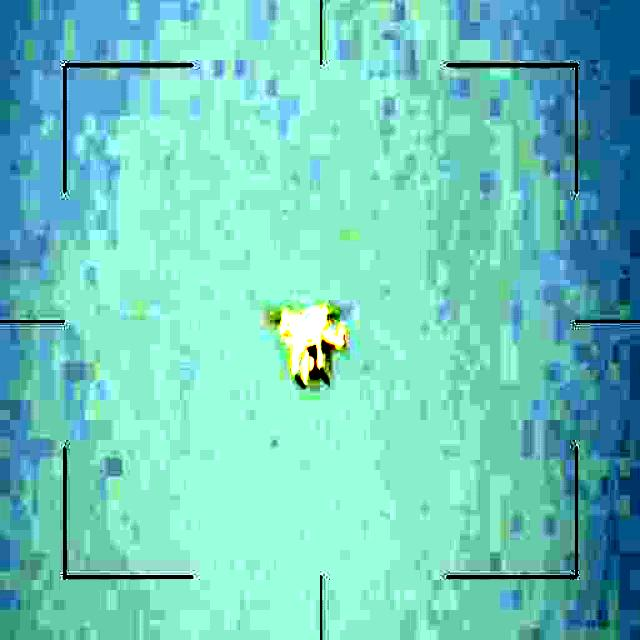bird: (266, 300, 340, 389)
